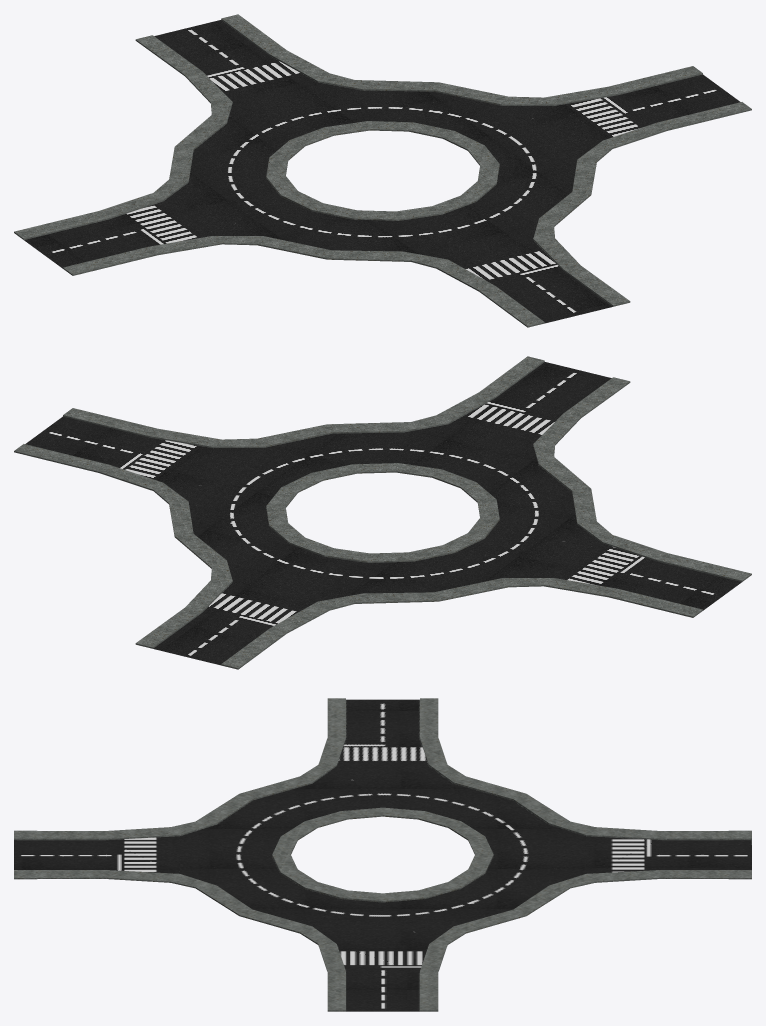
The picture shows the model from 3 angles, top to bottom: view 1: azimuth 30°, elevation 25°; view 2: azimuth 150°, elevation 25°; view 3: azimuth 270°, elevation 25°; orthographic projection. The views are drawn at different scales.
Visible parts, largest first — view 1: Plane.001; view 2: Plane.001; view 3: Plane.001.
Boxes of the visible parts, x1,y1,x2,y2 form: Plane.001: (14, 14, 751, 327); Plane.001: (14, 356, 751, 669); Plane.001: (14, 698, 751, 1011).
Bounding box in the file's own units: 8000 × 15 × 8000.
Materials: 1 (1 with a texture image).
